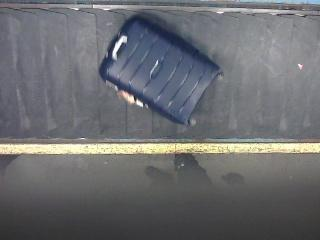Suitcase: (100, 16, 220, 125)
